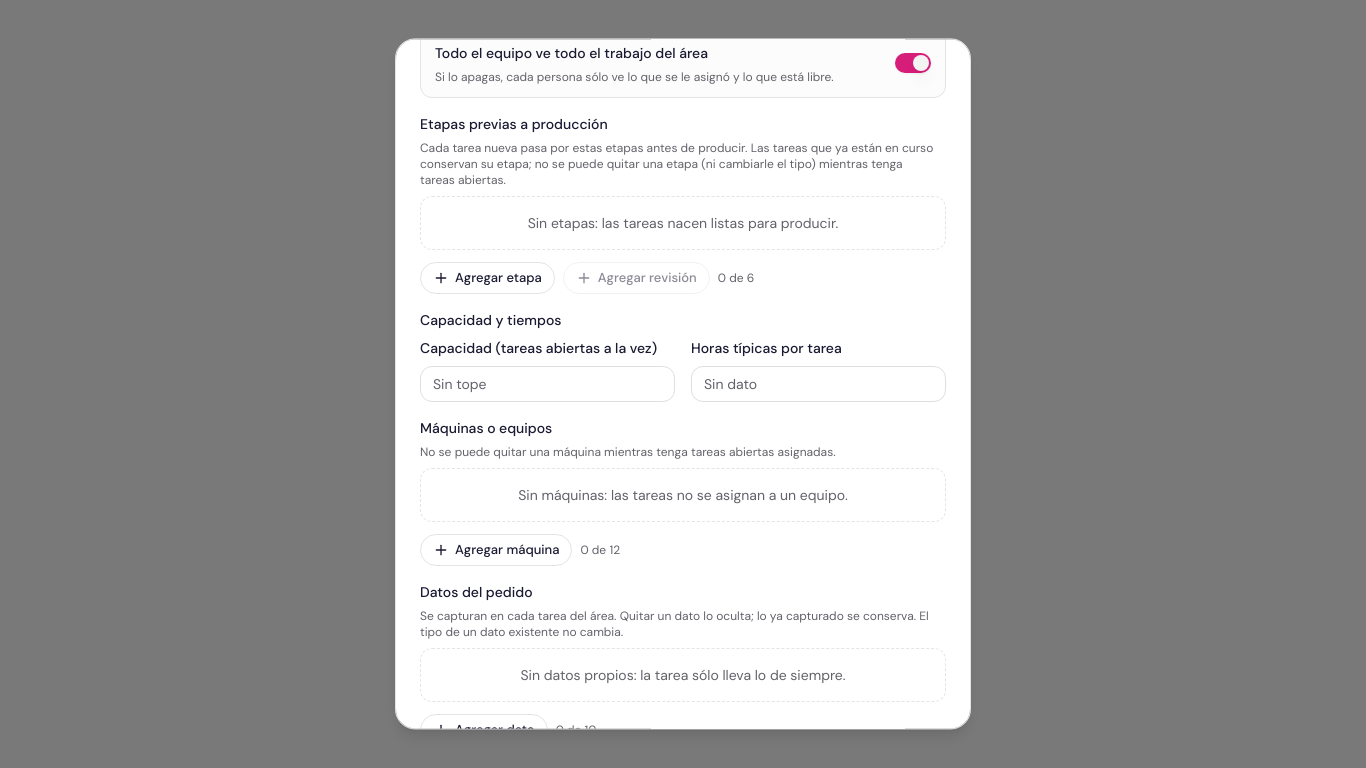
Test: AreaEditDialog › no guarda si la capacidad no es válida
(page scrolled)
Step 1. Type "-2" into the field labelled "Capacidad (tareas abiertas a la vez)" → (548, 384), box [420,366,675,402]
(page scrolled)
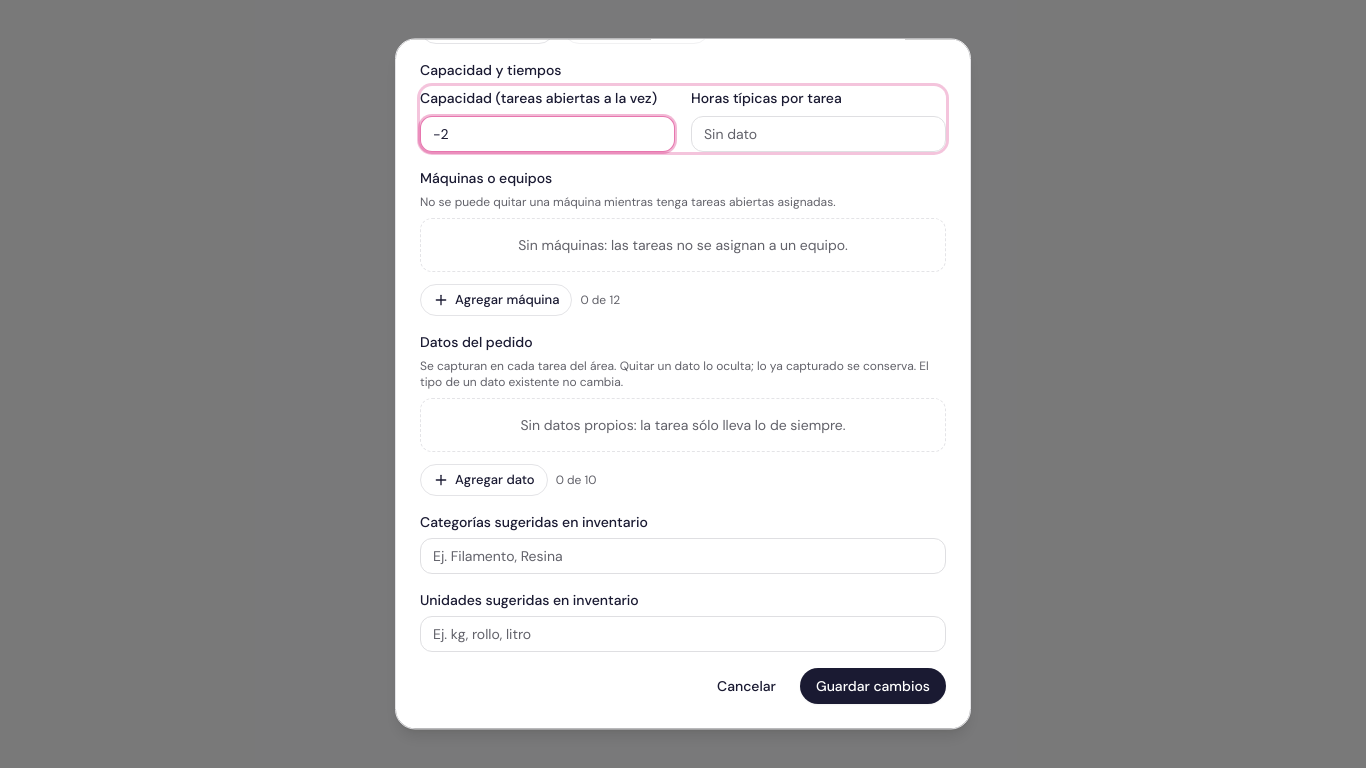
Step 2. Click the button "Guardar cambios" → (873, 686), box [800,668,946,704]
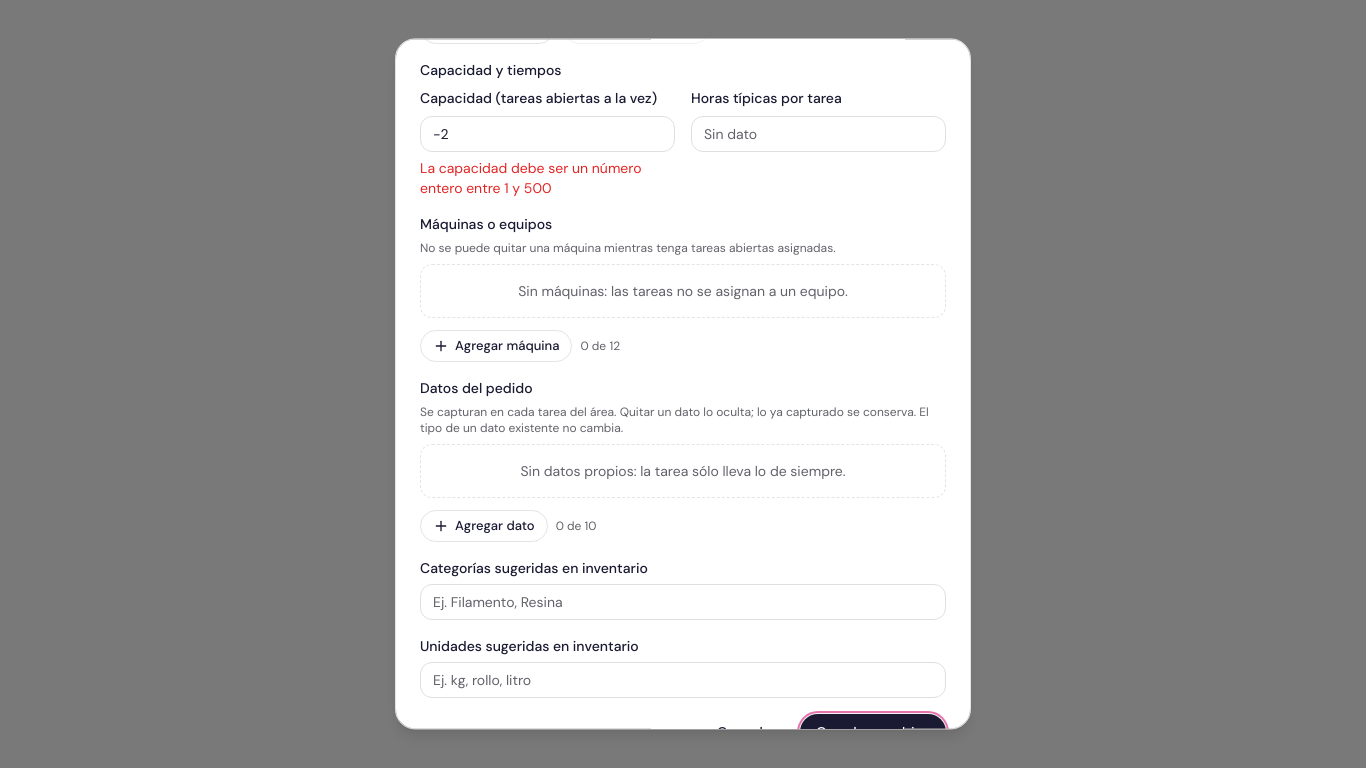
expect the text "La capacidad debe ser un número entero entre 1 y 500" is shown: met, box [420,158,675,198]
